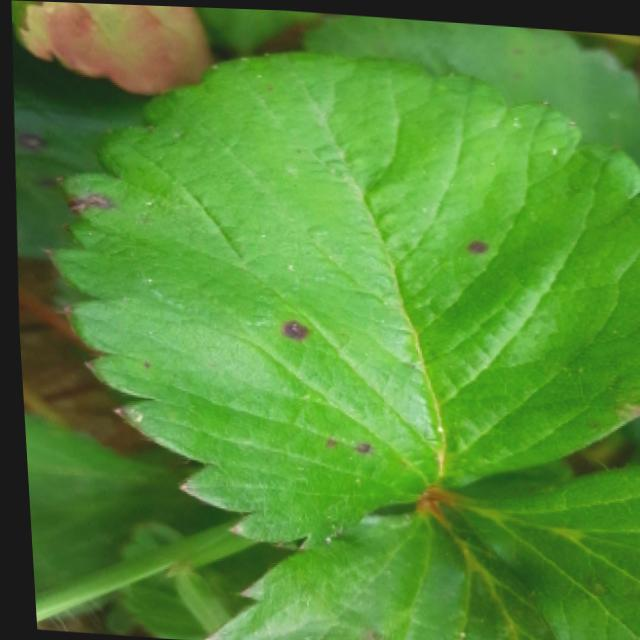Leaf Spot: (37, 47, 640, 550), (11, 24, 146, 267)
